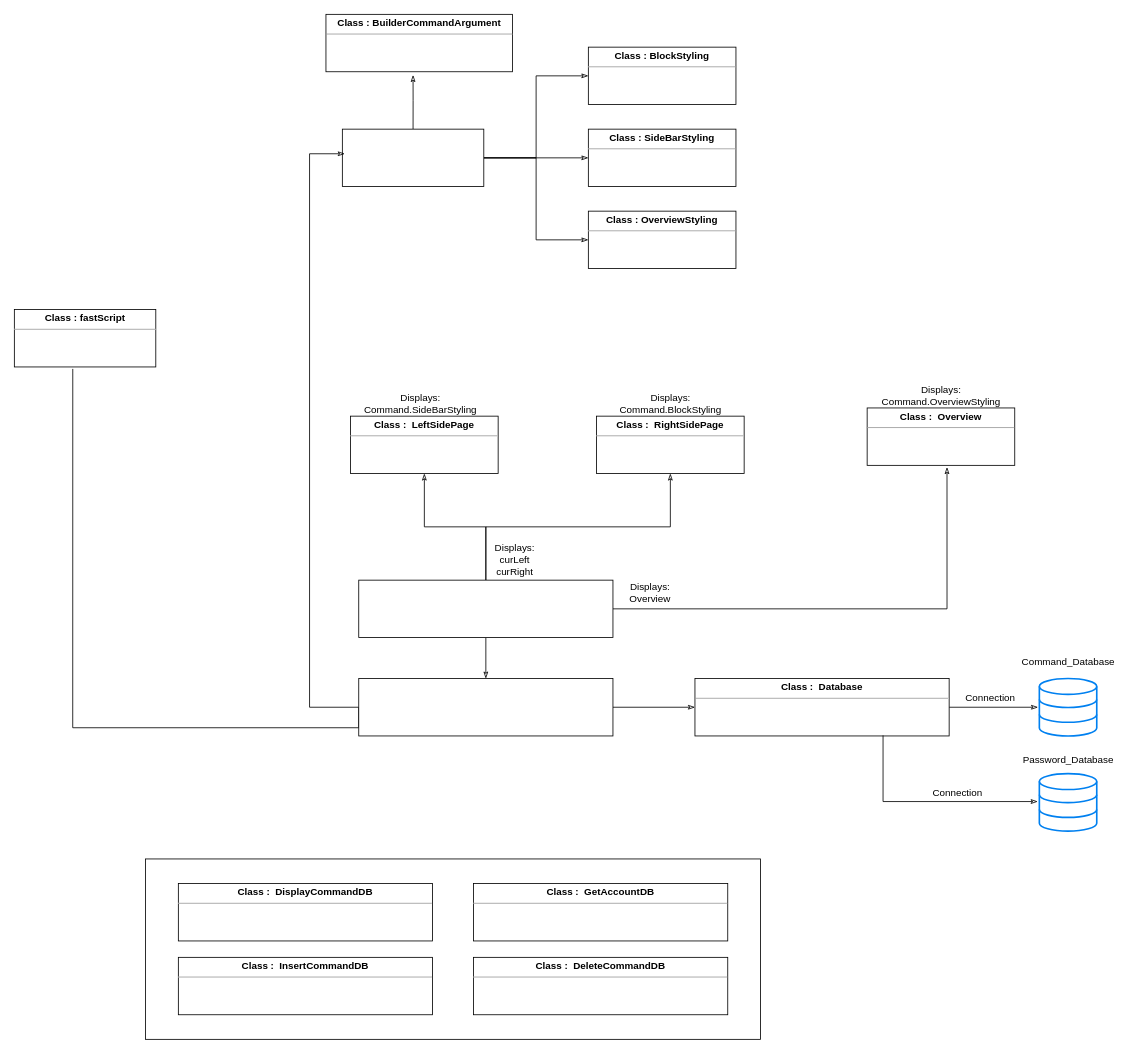
This 1136x1054 diagram has some shape labels left out. Each missing label, with the centre of its shape:
"Class : Command" belongs at pixel 413 157.
"Class : MainDataContext" belongs at pixel 485 707.
"Class : MainWindow" belongs at pixel 485 608.
